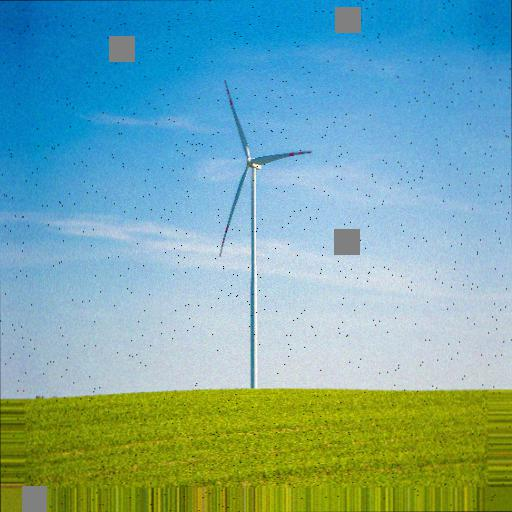wind turbine: (217, 79, 313, 392)
